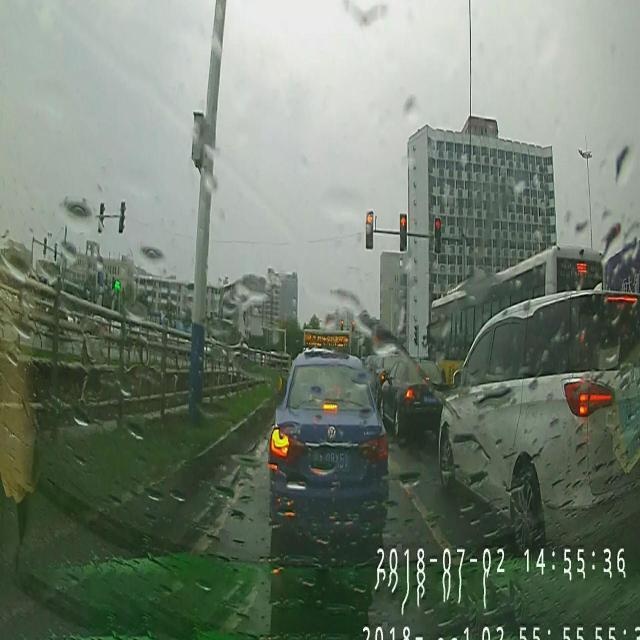car: (437, 288, 638, 554), (268, 328, 388, 539), (380, 353, 448, 436), (373, 352, 401, 410)
